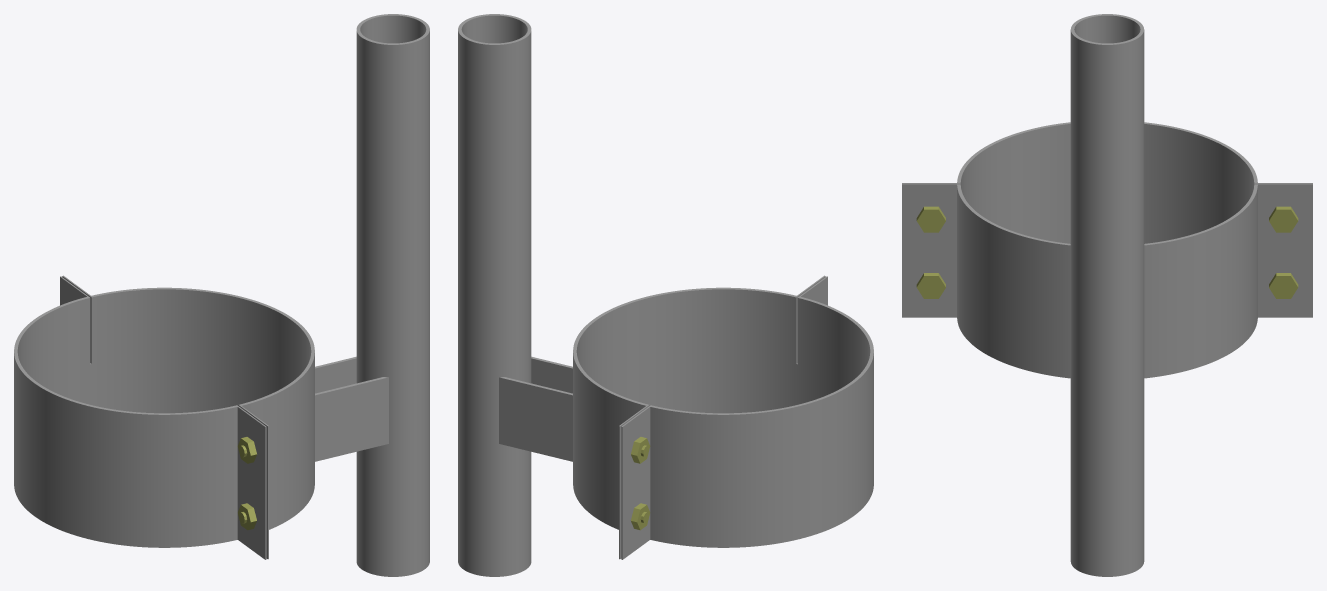
Rendered from Roadsign_Pole_Anchor_1type.FBX.
The picture shows the model from 3 angles, left to right: view 1: azimuth 30°, elevation 25°; view 2: azimuth 150°, elevation 25°; view 3: azimuth 270°, elevation 25°; orthographic projection.
Visible parts, largest first — view 1: roadsign_pole_anchor_1type; view 2: roadsign_pole_anchor_1type; view 3: roadsign_pole_anchor_1type.
Part boxes in pixels (x1=…): roadsign_pole_anchor_1type: x1=14, y1=14, x2=429, y2=576; roadsign_pole_anchor_1type: x1=458, y1=14, x2=873, y2=576; roadsign_pole_anchor_1type: x1=902, y1=14, x2=1312, y2=576.
Bounding box in the file's own units: 30.75 × 40 × 28.
